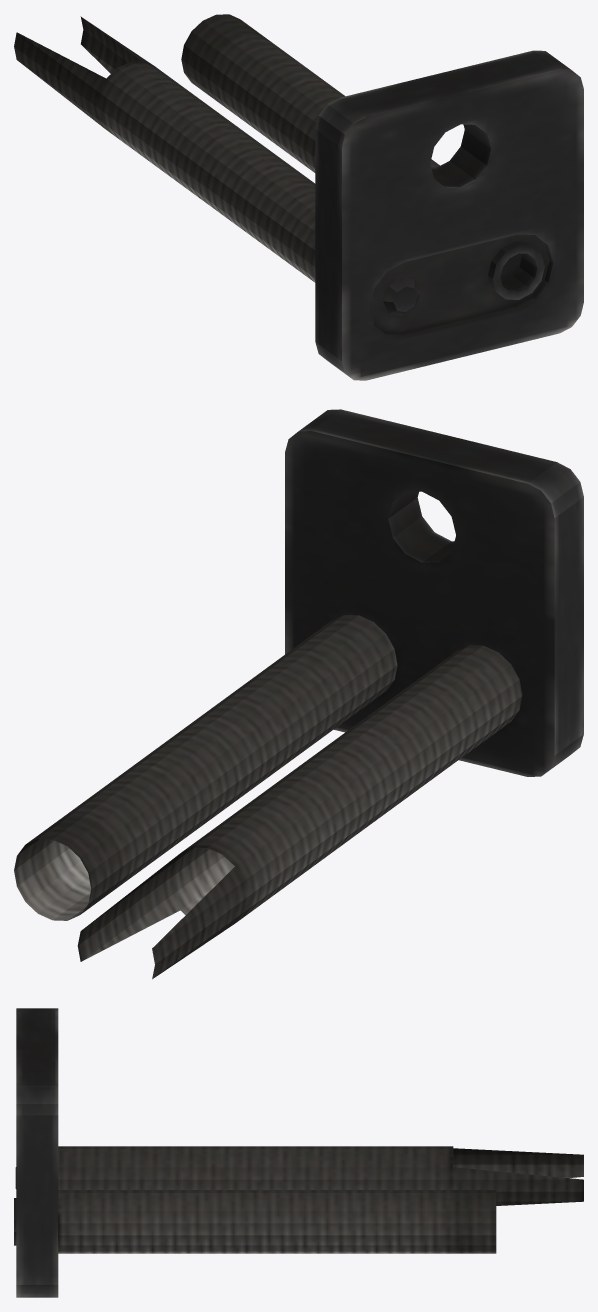
3 views of the same model, one above another, from view 1: azimuth 30°, elevation 25°; view 2: azimuth 150°, elevation 25°; view 3: azimuth 270°, elevation 25° (orthographic). The views are drawn at different scales.
Visible parts, largest first — view 1: TW_6680304edadb7aa61d00cef0_PZ_Import; view 2: TW_6680304edadb7aa61d00cef0_PZ_Import; view 3: TW_6680304edadb7aa61d00cef0_PZ_Import.
Part boxes in pixels (bbox=[...]): TW_6680304edadb7aa61d00cef0_PZ_Import: bbox=[14, 14, 583, 380]; TW_6680304edadb7aa61d00cef0_PZ_Import: bbox=[14, 409, 583, 979]; TW_6680304edadb7aa61d00cef0_PZ_Import: bbox=[14, 1008, 583, 1297].
Bounding box in the file's own units: 0.0181 × 0.0463 × 0.0188.
Materials: 1 (1 with a texture image).
